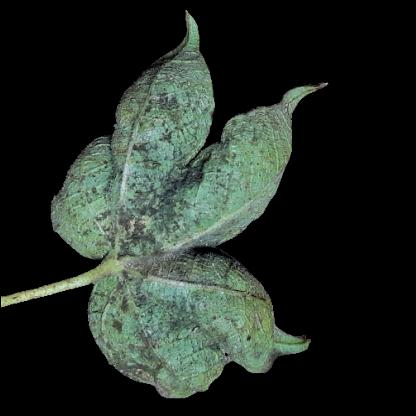curl_stage2: (228, 148, 278, 204), (212, 280, 252, 318)
sooty: (96, 181, 181, 323), (129, 84, 203, 166), (114, 328, 179, 378)
